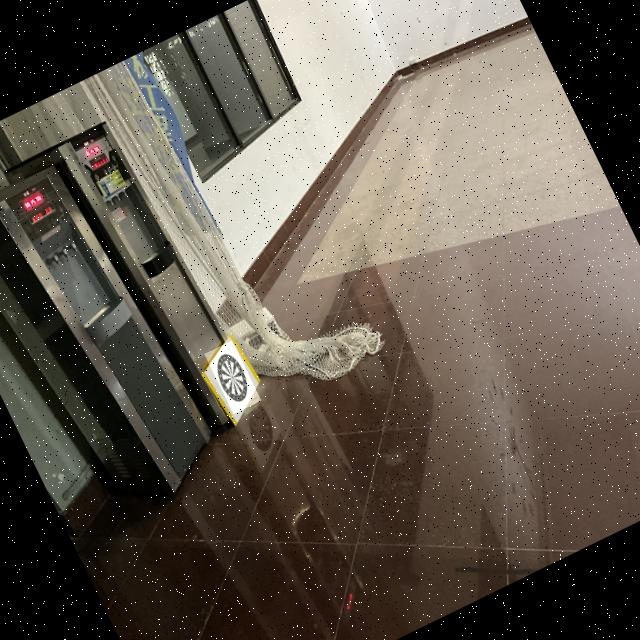archery-targets: (204, 339, 261, 414)
